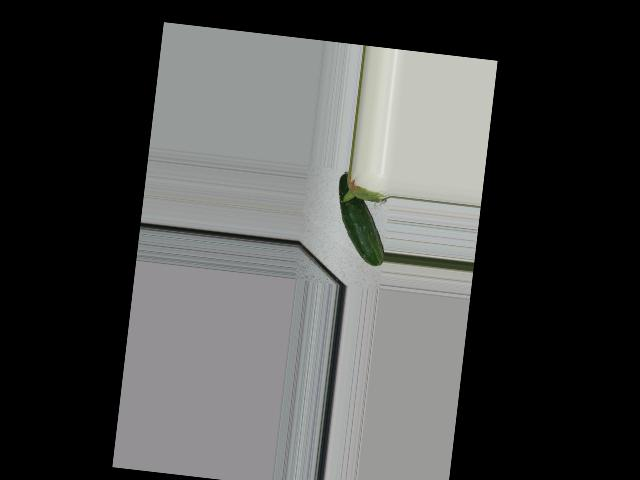cucumber: (330, 171, 393, 267)
